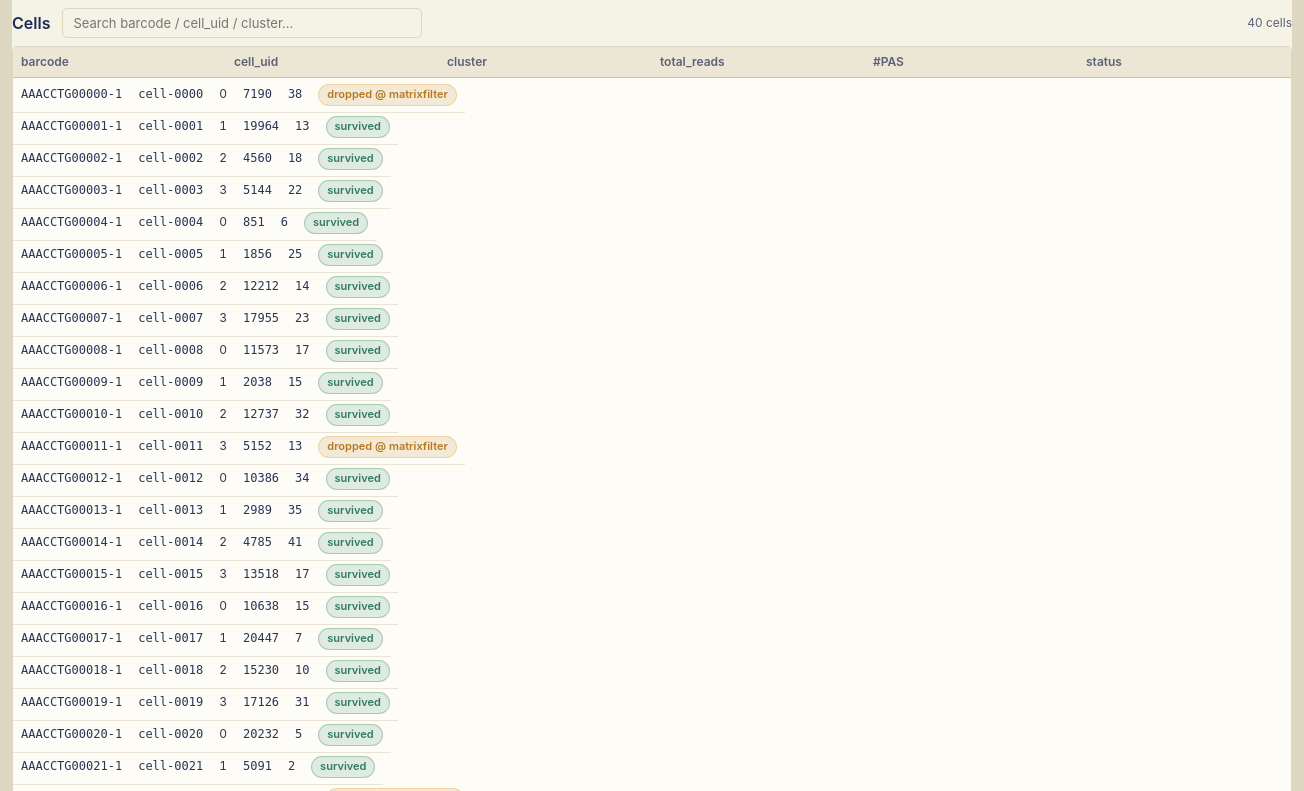
Test: CellBrowser › filters by barcode substring
The width and height of the screenshot is (1304, 791).
Check: the text "40 cells" is shown, box [1247, 14, 1292, 32]
Type "AAACCTG00003" into the search field named "search cells" at (242, 23), box [62, 8, 422, 38]
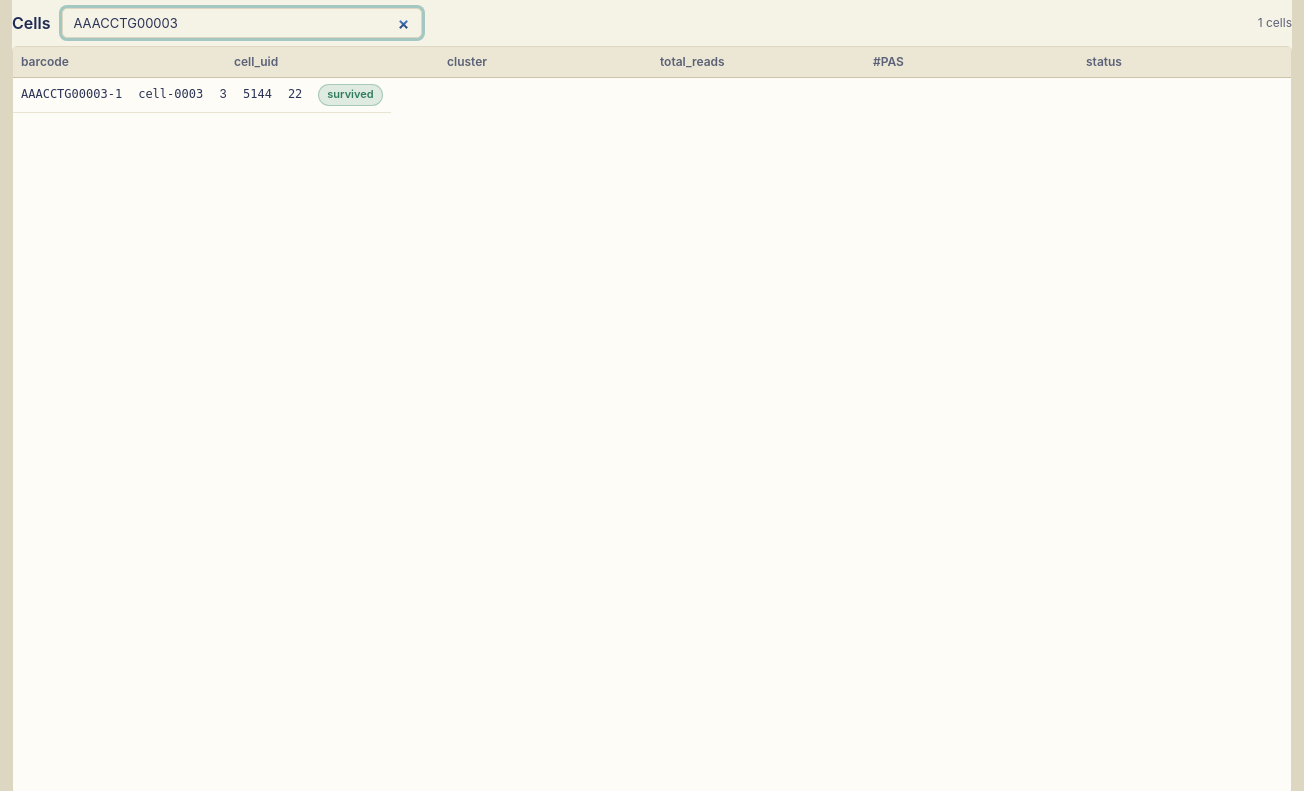
Check: the text "1 cells" is shown, box [1258, 14, 1292, 32]
